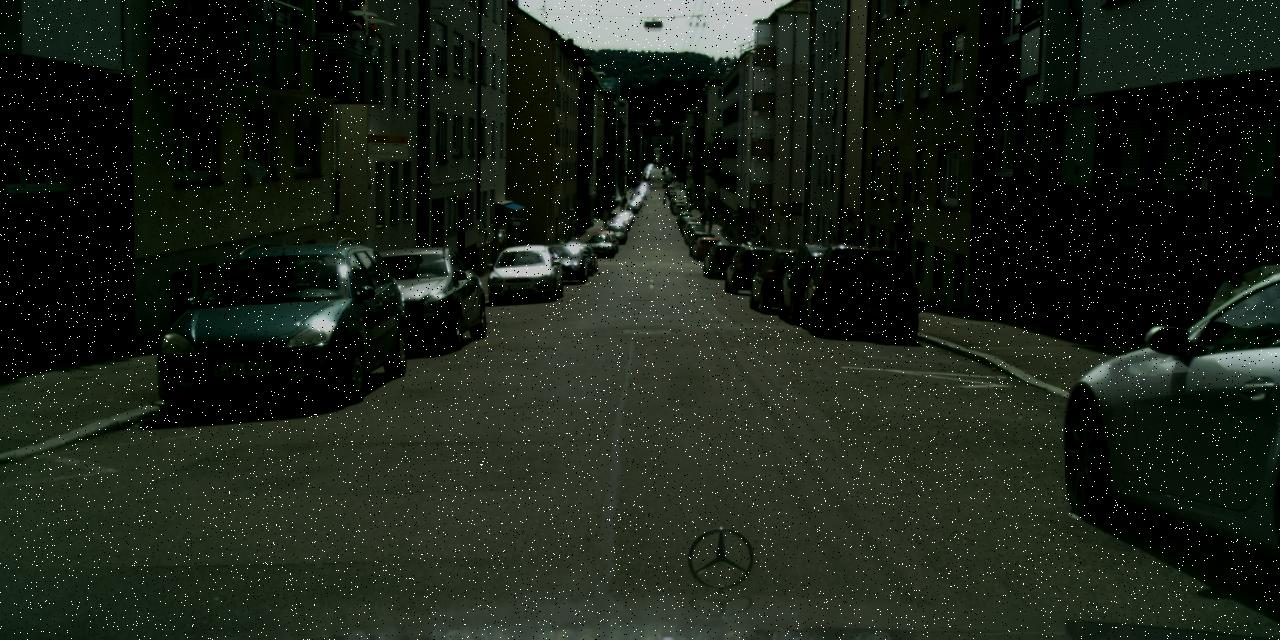ped: (601, 209, 608, 227), (699, 212, 706, 229), (620, 196, 628, 210), (662, 195, 666, 205)
